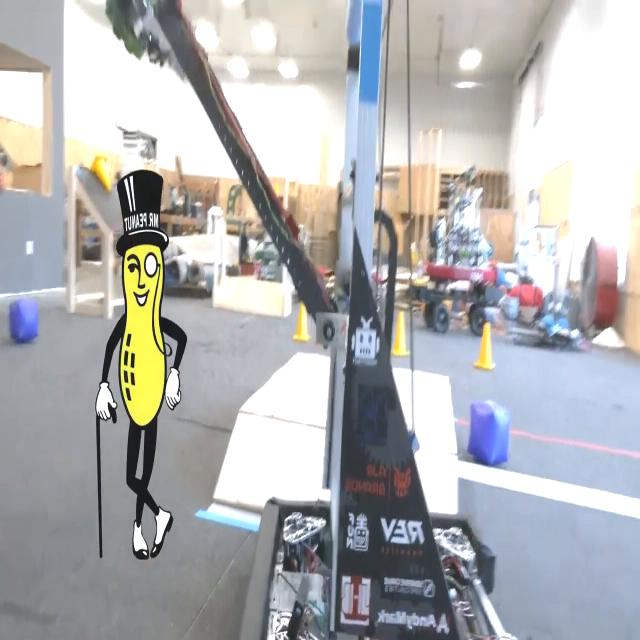frc_cone: (85, 149, 113, 192), (475, 321, 496, 372), (392, 309, 410, 359), (294, 297, 309, 341)
frc_cube: (466, 395, 514, 469), (9, 298, 40, 346)
